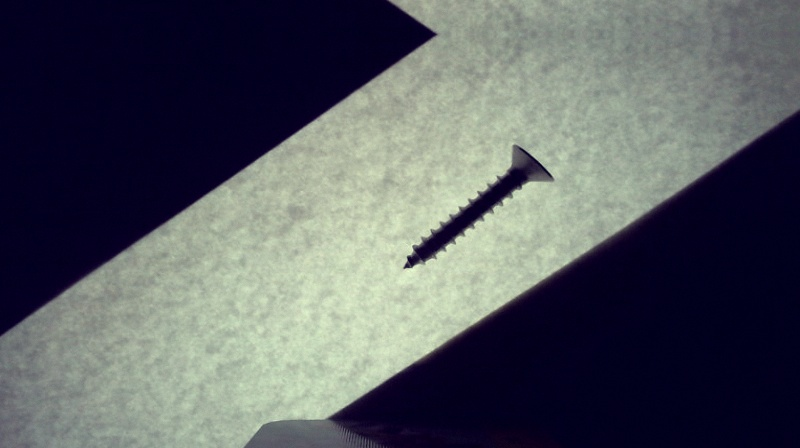S001: (399, 142, 557, 271)
